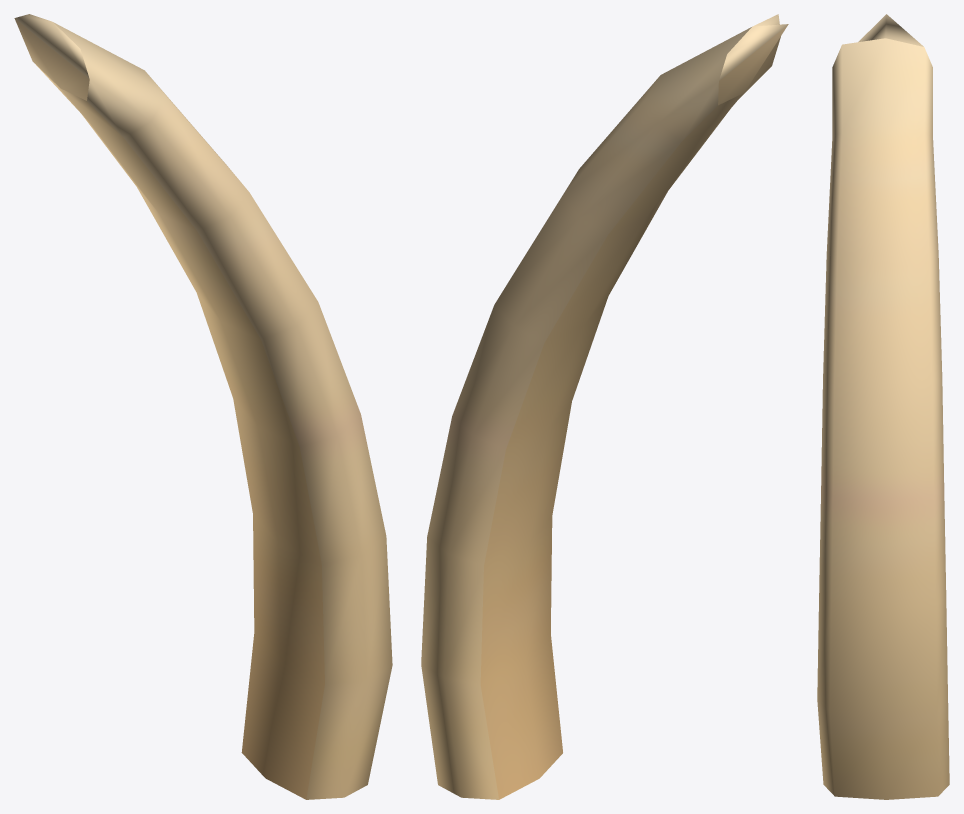
File: Rib4.fbx
The picture shows the model from 3 angles, left to right: view 1: azimuth 30°, elevation 25°; view 2: azimuth 150°, elevation 25°; view 3: azimuth 270°, elevation 25°; orthographic projection. The views are drawn at different scales.
Parts seen in each view (by area): view 1: pCube4; view 2: pCube4; view 3: pCube4.
Part boxes in pixels (x1=…): pCube4: x1=14, y1=14, x2=392, y2=799; pCube4: x1=421, y1=14, x2=788, y2=799; pCube4: x1=817, y1=14, x2=949, y2=799.
Size of the model in its own units: 3.1 by 6.91 by 1.26.
